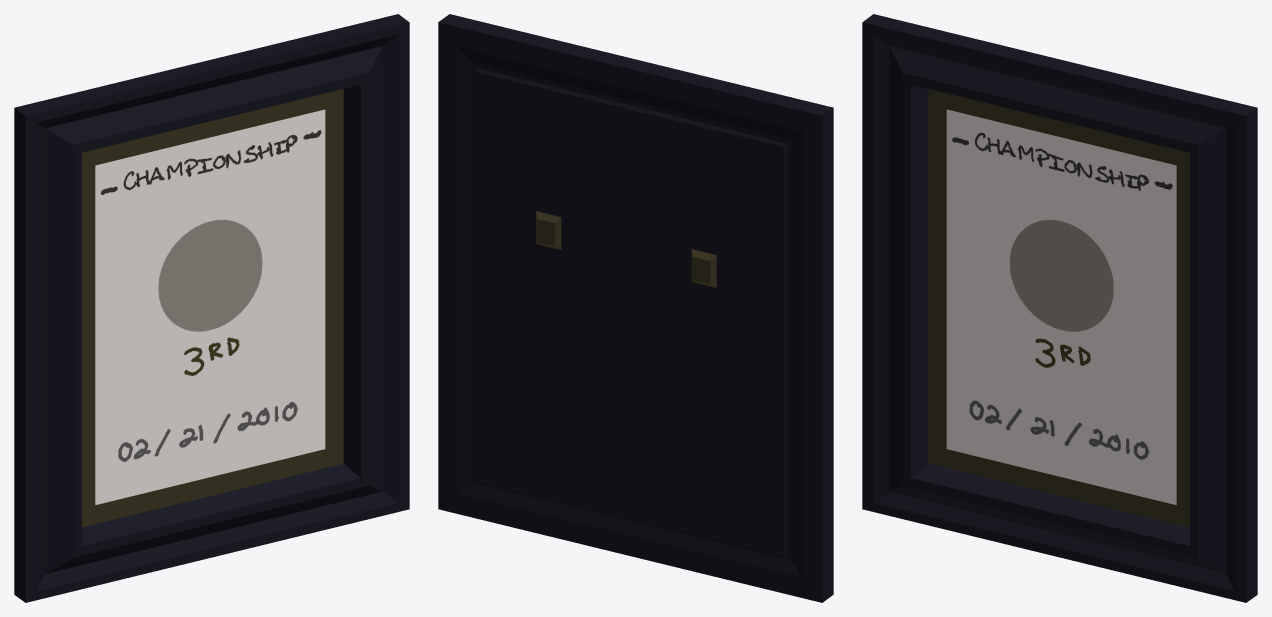
Rendered from Portrait_Hanging.obj.
3 renders of one model, left to right at view 1: azimuth 30°, elevation 25°; view 2: azimuth 150°, elevation 25°; view 3: azimuth 330°, elevation 25°, orthographic.
Visible parts, largest first — view 1: HangingFramePortrait_Cube.003_Mat4, HangingFramePortrait_Cube.003_Mat4.001, HangingFramePortrait_Cube.003_Mat3; view 2: HangingFramePortrait_Cube.003_Mat4, HangingFramePortrait_Cube.003_Mat3; view 3: HangingFramePortrait_Cube.003_Mat4, HangingFramePortrait_Cube.003_Mat4.001, HangingFramePortrait_Cube.003_Mat3.
Part boxes in pixels (x1=…): HangingFramePortrait_Cube.003_Mat4: x1=14, y1=14, x2=409, y2=602; HangingFramePortrait_Cube.003_Mat4.001: x1=95, y1=109, x2=325, y2=504; HangingFramePortrait_Cube.003_Mat3: x1=82, y1=89, x2=343, y2=527; HangingFramePortrait_Cube.003_Mat4: x1=438, y1=14, x2=833, y2=602; HangingFramePortrait_Cube.003_Mat3: x1=536, y1=211, x2=716, y2=287; HangingFramePortrait_Cube.003_Mat4: x1=862, y1=14, x2=1257, y2=602; HangingFramePortrait_Cube.003_Mat4.001: x1=946, y1=109, x2=1176, y2=504; HangingFramePortrait_Cube.003_Mat3: x1=928, y1=89, x2=1189, y2=527.
Bounding box in the file's own units: 1.48 × 1.8 × 0.1452.
Materials: 3 (1 with a texture image).
